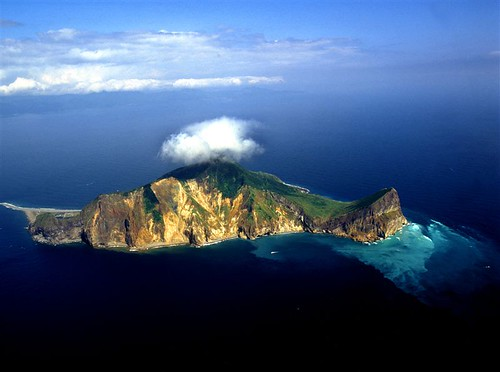turtleIslandTop: (14, 154, 431, 261)
